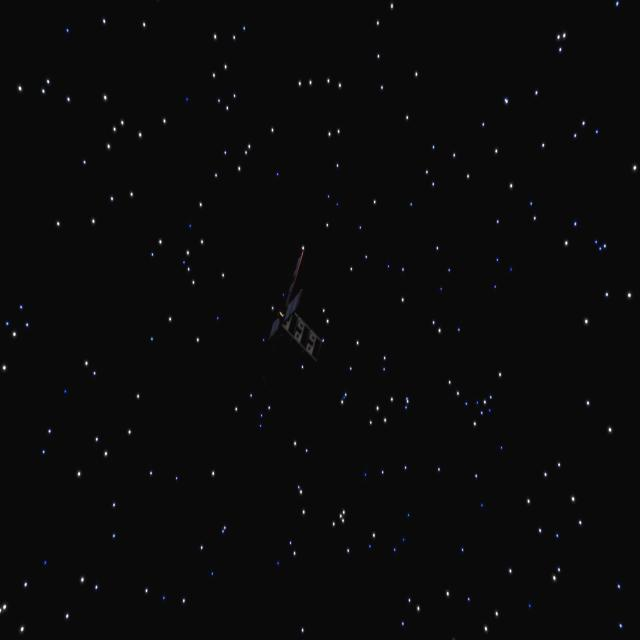satellite: (257, 257, 322, 371)
